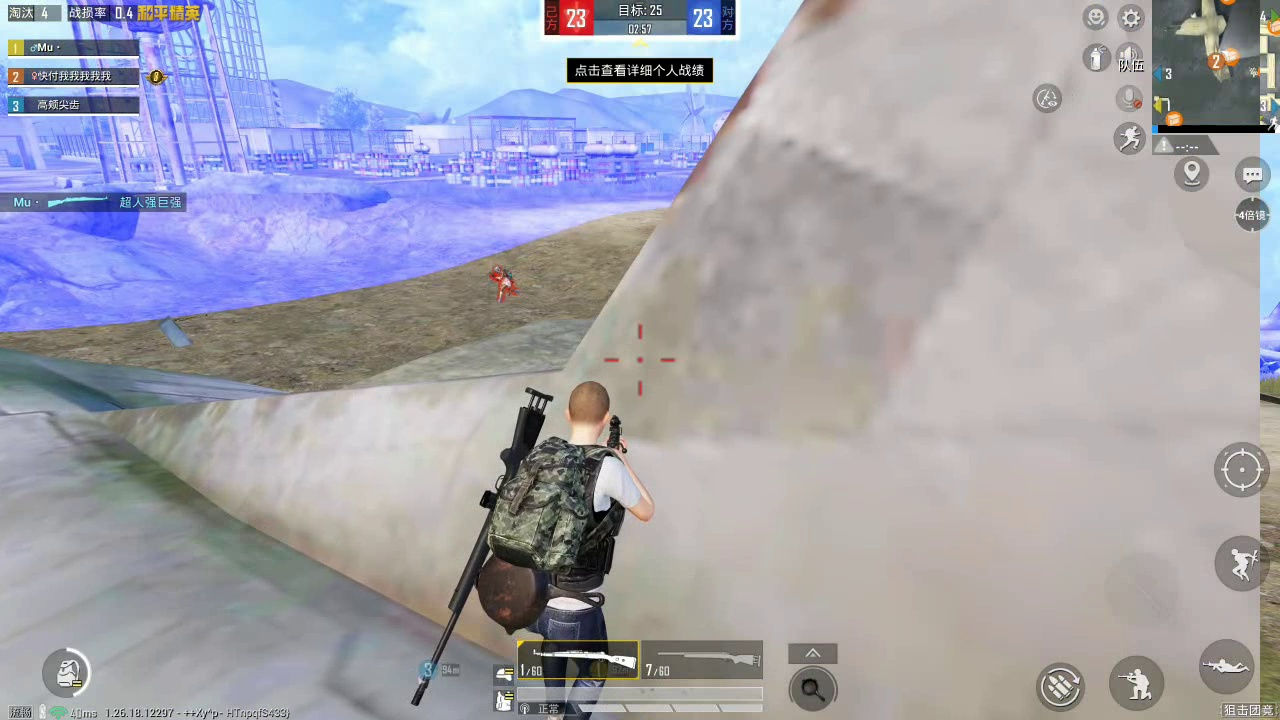enemy: (491, 264, 515, 297)
